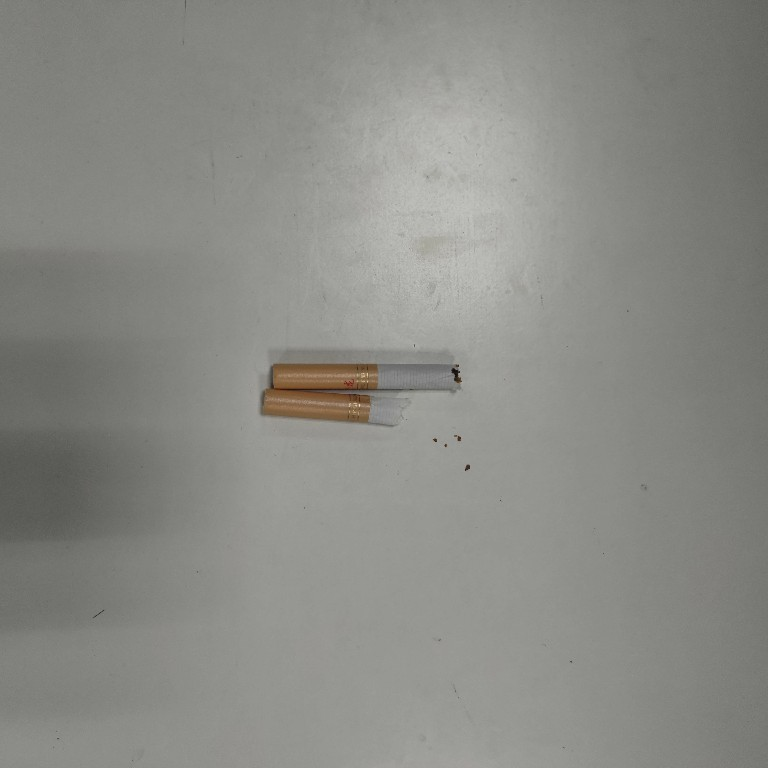cigarette: (268, 358, 467, 395), (256, 386, 416, 431)
